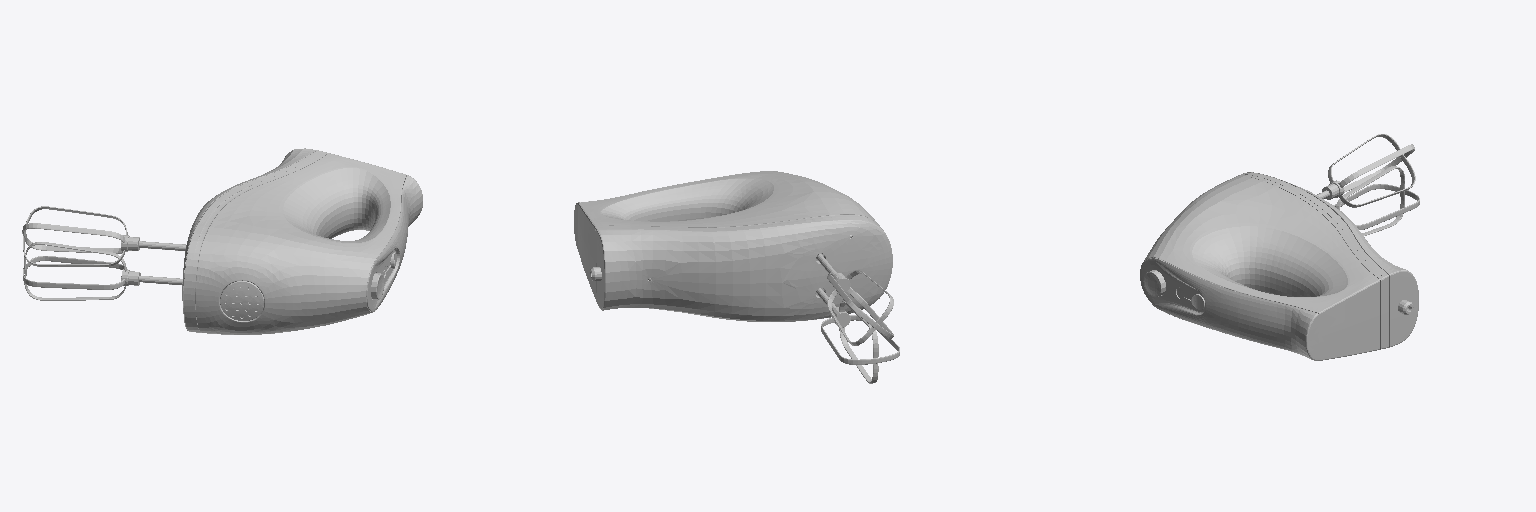
The model's file is HandMixer.obj.
3 renders of one model, left to right at view 1: azimuth 30°, elevation 25°; view 2: azimuth 150°, elevation 25°; view 3: azimuth 270°, elevation 25°, orthographic.
Parts seen in each view (by area): view 1: 11641_Hand_Mixer_Body, 11641_Hand_Mixer_metall, 11641_Hand_Mixer_Blue; view 2: 11641_Hand_Mixer_Body, 11641_Hand_Mixer_metall; view 3: 11641_Hand_Mixer_Body, 11641_Hand_Mixer_metall, 11641_Hand_Mixer_Blue.
Boxes of the visible parts, x1,y1,x2,y2 form: 11641_Hand_Mixer_Body: [182, 148, 422, 334]; 11641_Hand_Mixer_metall: [22, 206, 185, 300]; 11641_Hand_Mixer_Blue: [190, 152, 396, 332]; 11641_Hand_Mixer_Body: [574, 171, 892, 321]; 11641_Hand_Mixer_metall: [816, 253, 899, 383]; 11641_Hand_Mixer_Body: [1140, 172, 1418, 360]; 11641_Hand_Mixer_metall: [1317, 134, 1419, 235]; 11641_Hand_Mixer_Blue: [1143, 175, 1384, 349].
Bounding box in the file's own units: 21.2 × 5.47 × 14.24.